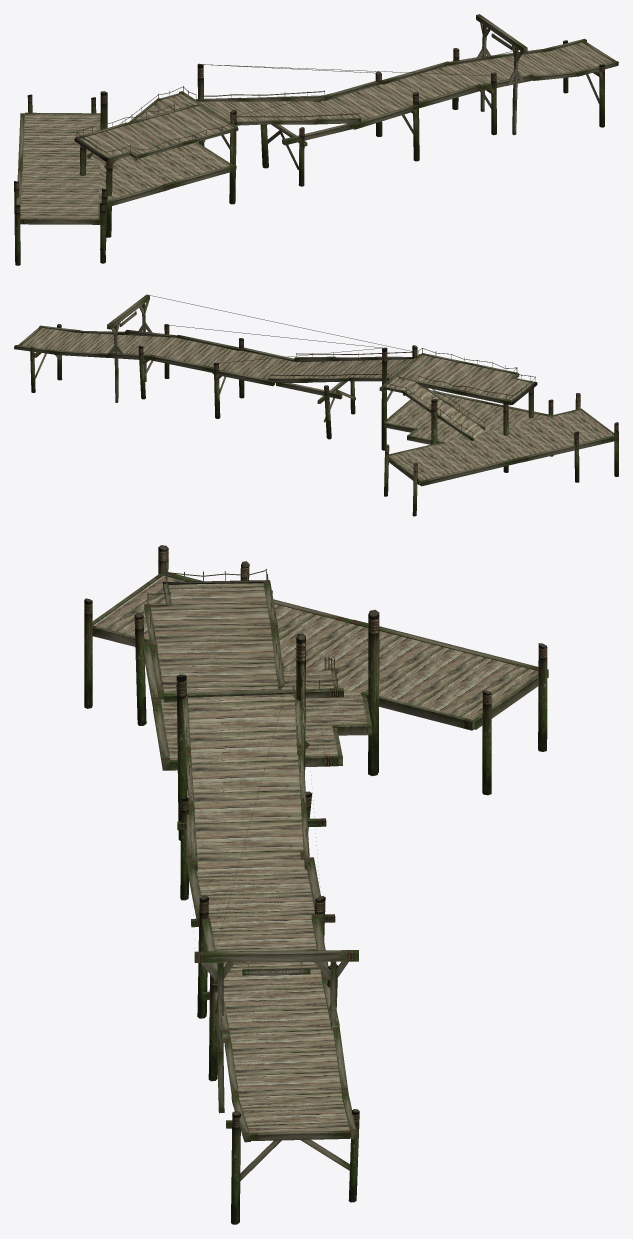
The model's file is pier_port_royal_2deck.fbx.
3 renders of one model, top to bottom at view 1: azimuth 30°, elevation 25°; view 2: azimuth 150°, elevation 25°; view 3: azimuth 270°, elevation 25°, orthographic. The views are drawn at different scales.
Visible parts, largest first — view 1: deck240, deck242, deck241, deck243, deck232, deck237, deck239, deck244, pylon_82, wood_side, polySurface186, polySurface189 (+12 smaller); view 2: deck240, deck242, deck241, deck243, deck244, deck232, deck239, deck237, polySurface197, polySurface196, pylon_117, polySurface184 (+5 smaller); view 3: deck240, deck242, deck241, deck239, deck243, polySurface241, pylon_107, deck232, deck222, pylon_82, wood_side10, pCube104 (+10 smaller).
Part boxes in pixels (x1,y1,x2,y2): deck240: (199,42,612,121); deck242: (20,114,100,218); deck241: (80,105,233,157); deck243: (98,143,229,203); deck232: (99,145,228,202); deck237: (21,118,99,218); deck239: (204,54,602,120); deck244: (90,94,197,166); pylon_82: (229,110,236,204); wood_side: (20,218,100,224); polySurface186: (166,164,236,189); polySurface189: (282,123,354,145); deck240: (21,328,412,379); deck242: (389,410,613,480); deck241: (398,355,532,400); deck243: (387,393,501,441); deck244: (385,377,483,437); deck232: (386,394,550,441); deck239: (43,329,410,378); deck237: (397,411,611,454); polySurface197: (419,457,520,486); polySurface196: (519,435,616,462); pylon_117: (381,347,387,450); polySurface184: (382,348,535,432); deck240: (187,694,349,1133); deck242: (93,575,538,722); deck241: (150,583,278,693); deck239: (188,694,338,1132); deck243: (148,641,367,759); polySurface241: (194,950,358,962); pylon_107: (368,609,379,776); deck232: (161,691,366,759); deck222: (151,583,268,691); pylon_82: (176,674,187,841); wood_side10: (360,691,474,730); pCube104: (164,688,343,702).
Size of the model in its own units: 37545 by 8168 by 13534.
Materials: 2 (2 with a texture image).
